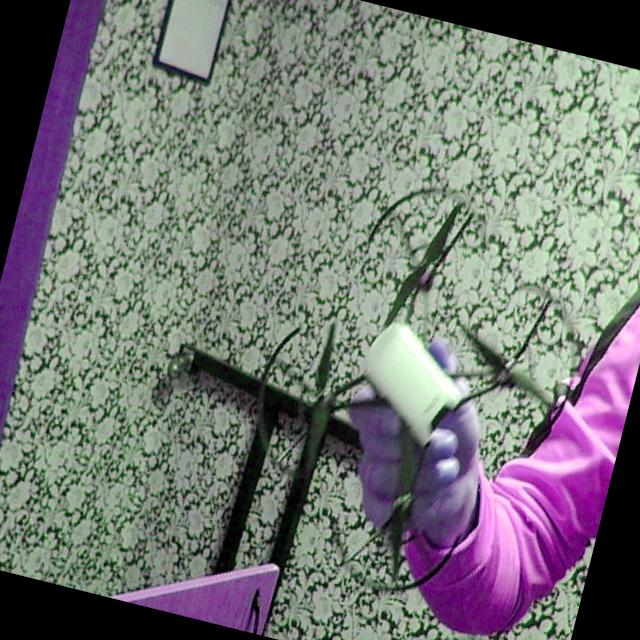drone: (214, 160, 622, 639)
